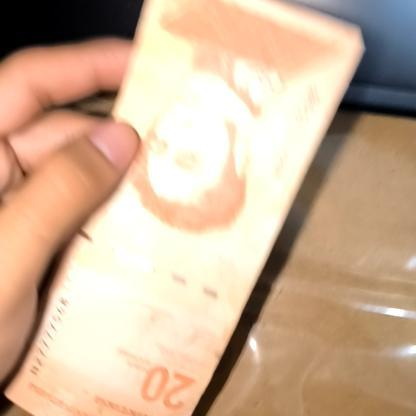twenty-front-vef: (23, 0, 364, 416)
